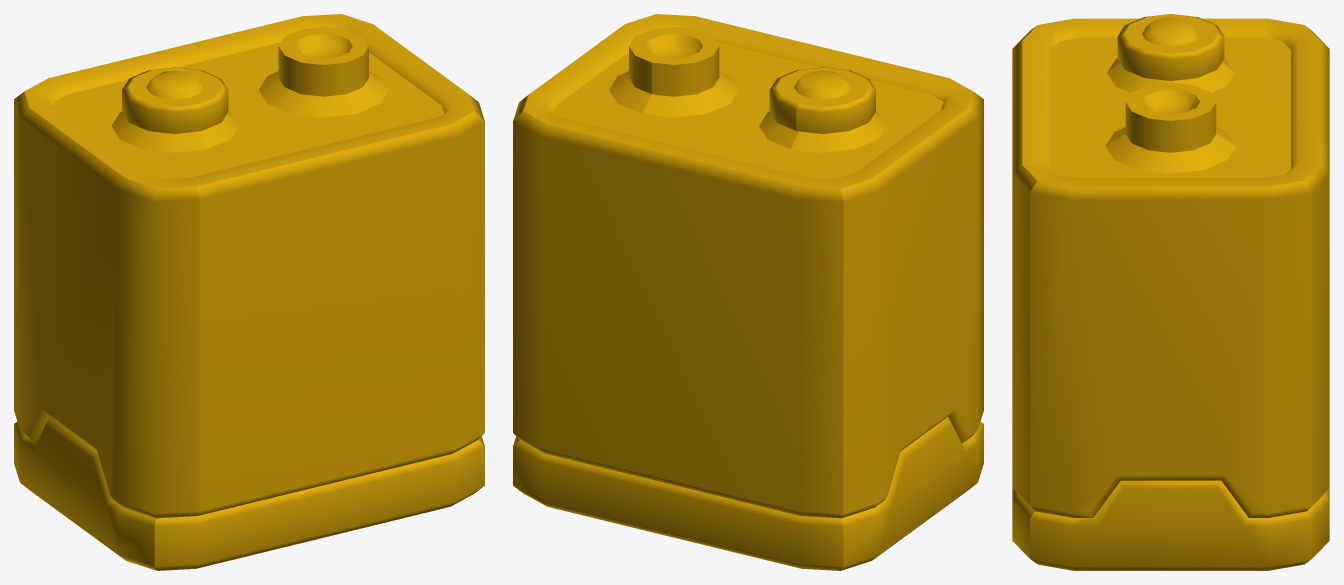
The model's file is obj_consumable_battery.fbx.
3 views of the same model, side by side, from view 1: azimuth 30°, elevation 25°; view 2: azimuth 150°, elevation 25°; view 3: azimuth 270°, elevation 25° (orthographic).
Parts seen in each view (by area): view 1: battery_lp_part1_lp; view 2: battery_lp_part1_lp; view 3: battery_lp_part1_lp.
Boxes of the visible parts, x1,y1,x2,y2 form: battery_lp_part1_lp: (14, 14, 484, 570); battery_lp_part1_lp: (513, 14, 983, 570); battery_lp_part1_lp: (1012, 14, 1329, 570).
Bounding box in the file's own units: 1.84 × 2.05 × 1.39.
